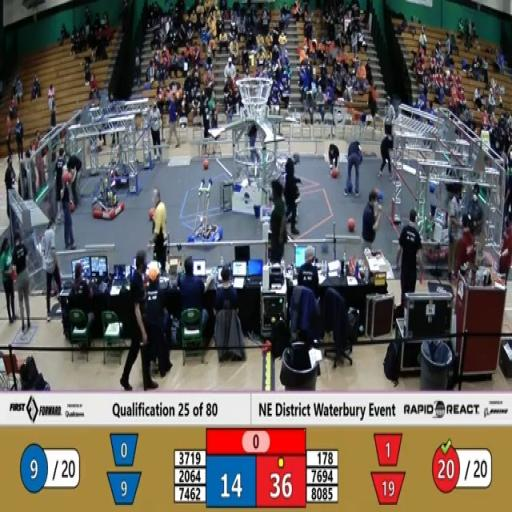robot: (182, 170, 227, 255), (416, 193, 466, 268), (102, 123, 138, 188), (266, 135, 301, 196), (90, 171, 128, 224)
